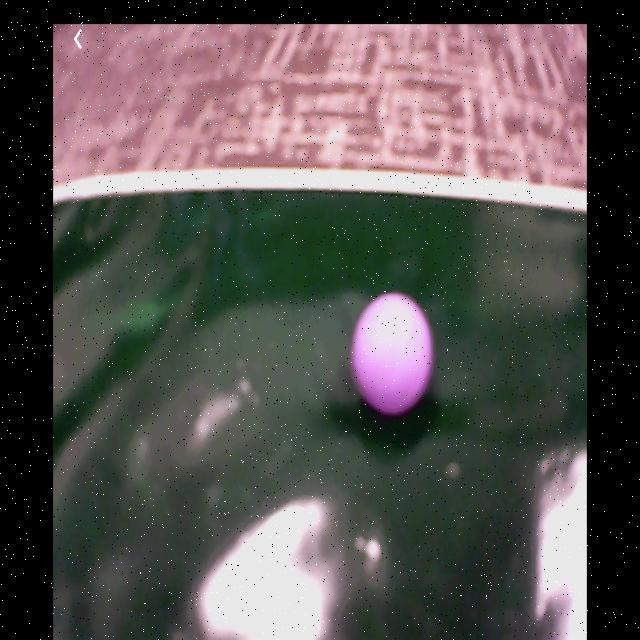ball: (353, 293, 433, 420)
